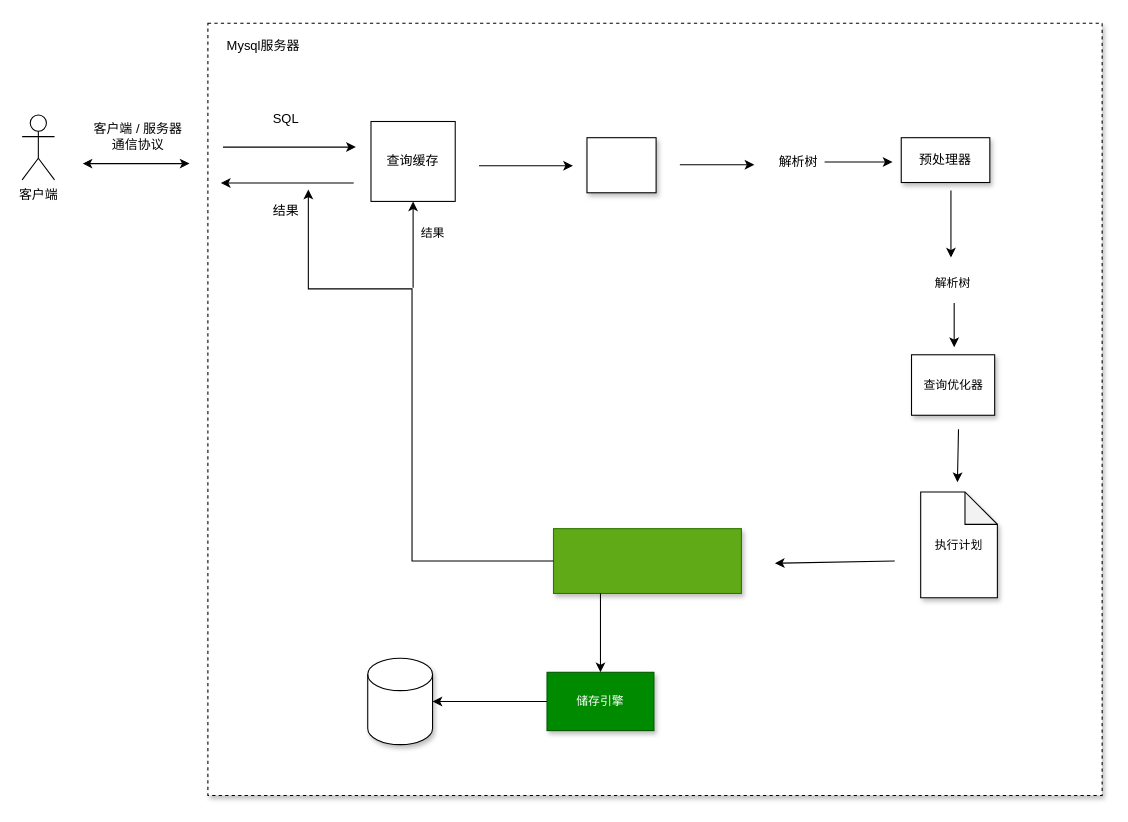
This 1128x822 diagram has some shape labels left out. Each missing label, with the centre of its shape:
"数据" belongs at point (400, 702).
"查询执行引擎" belongs at point (648, 562).
"解析器" belongs at point (622, 166).
